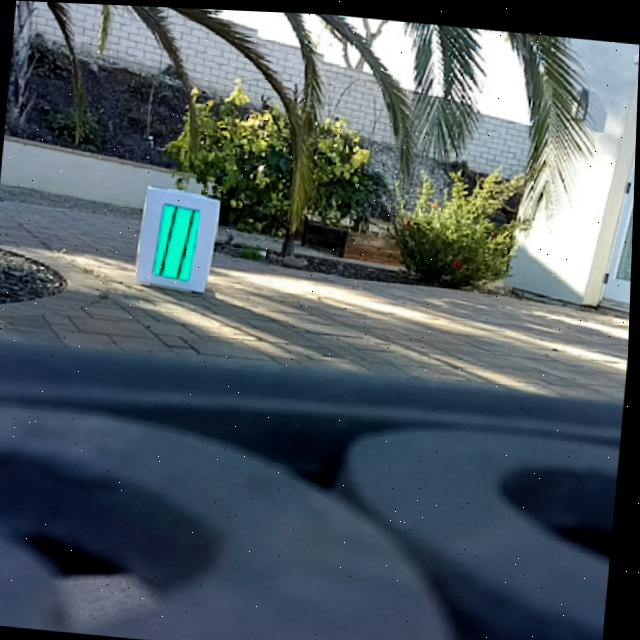led: (154, 199, 201, 281)
